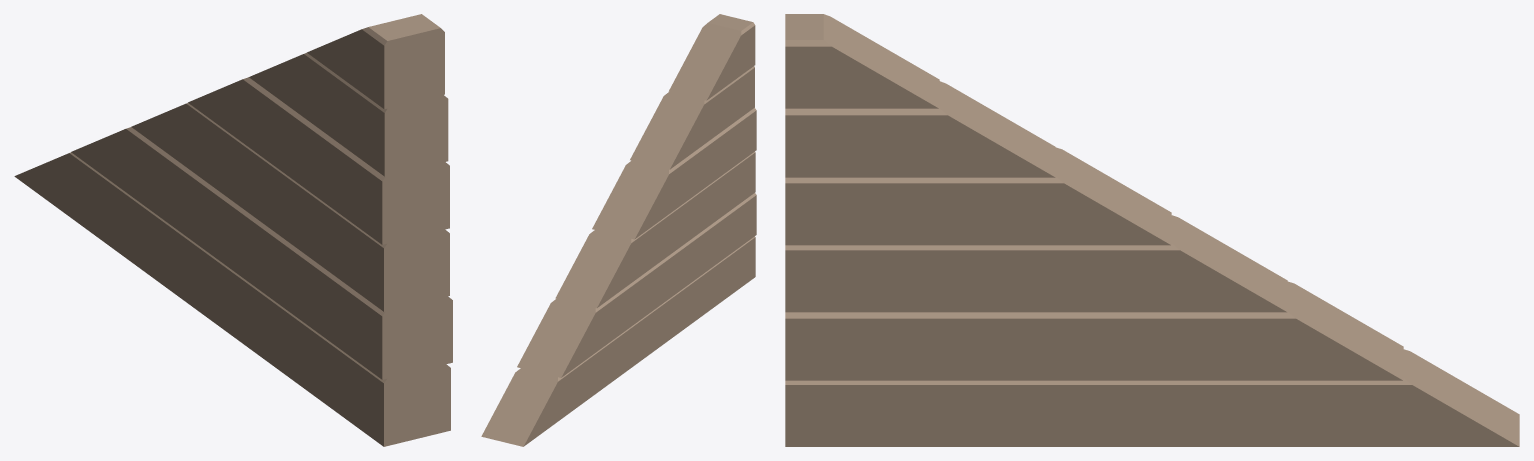
Rendered from UpperWall01_house01.obj.
3 views of the same model, side by side, from view 1: azimuth 30°, elevation 25°; view 2: azimuth 150°, elevation 25°; view 3: azimuth 270°, elevation 25° (orthographic). The views are drawn at different scales.
Parts seen in each view (by area): view 1: UpperWall01_house01_Cube.001; view 2: UpperWall01_house01_Cube.001; view 3: UpperWall01_house01_Cube.001.
Boxes of the visible parts, bbox=[...] form: UpperWall01_house01_Cube.001: bbox=[14, 14, 452, 446]; UpperWall01_house01_Cube.001: bbox=[481, 14, 756, 446]; UpperWall01_house01_Cube.001: bbox=[785, 14, 1519, 446].
Size of the model in its own units: 0.5476 by 3 by 4.96.
